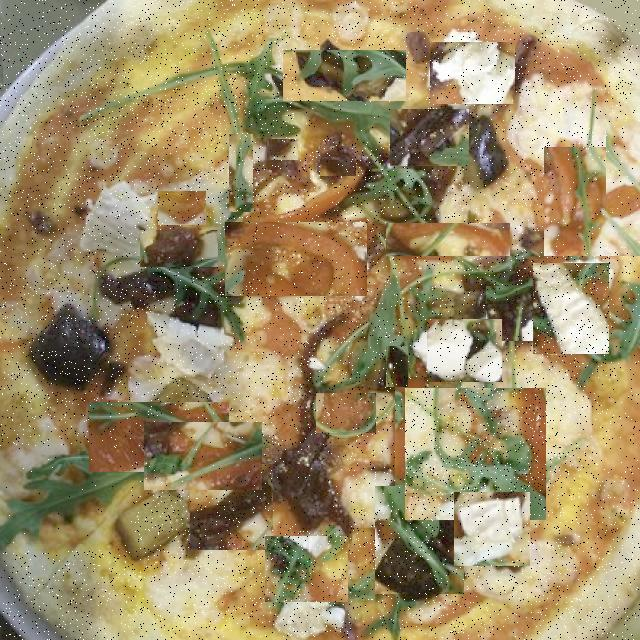Cheese: (533, 263, 609, 354), (139, 312, 229, 376), (454, 492, 530, 566), (430, 42, 515, 104), (427, 319, 502, 382), (80, 184, 146, 252), (278, 580, 348, 640)
Olives: (375, 486, 464, 594), (190, 464, 273, 550), (30, 306, 112, 383), (283, 50, 406, 101), (104, 276, 224, 321), (281, 452, 349, 528), (390, 110, 469, 168), (486, 286, 542, 341), (140, 230, 218, 267), (320, 146, 356, 176), (386, 346, 408, 387), (267, 139, 298, 160), (506, 176, 509, 178)
Pizza: (0, 0, 640, 640)
Rucola: (405, 388, 546, 520), (84, 65, 300, 136), (0, 446, 132, 551), (324, 269, 430, 390), (583, 284, 640, 467), (300, 60, 426, 138), (361, 518, 445, 633), (144, 422, 262, 490), (265, 536, 348, 602), (606, 122, 640, 199), (229, 134, 253, 212)
Tomato: (225, 222, 367, 296), (544, 147, 640, 256), (89, 402, 229, 472), (247, 166, 364, 238), (386, 223, 510, 256), (395, 378, 429, 490), (316, 393, 376, 433), (158, 191, 206, 225)
